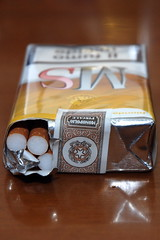cigarette: (1, 40, 158, 181), (25, 120, 49, 157), (6, 120, 29, 153)
